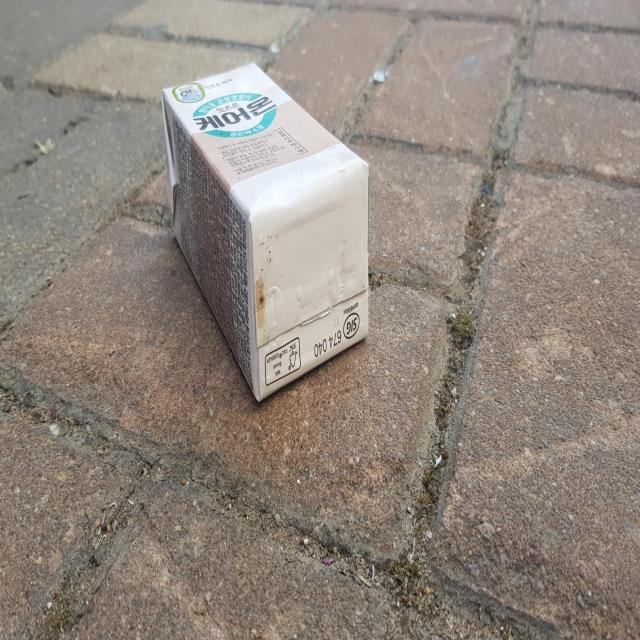paperpack: (161, 62, 369, 400)
